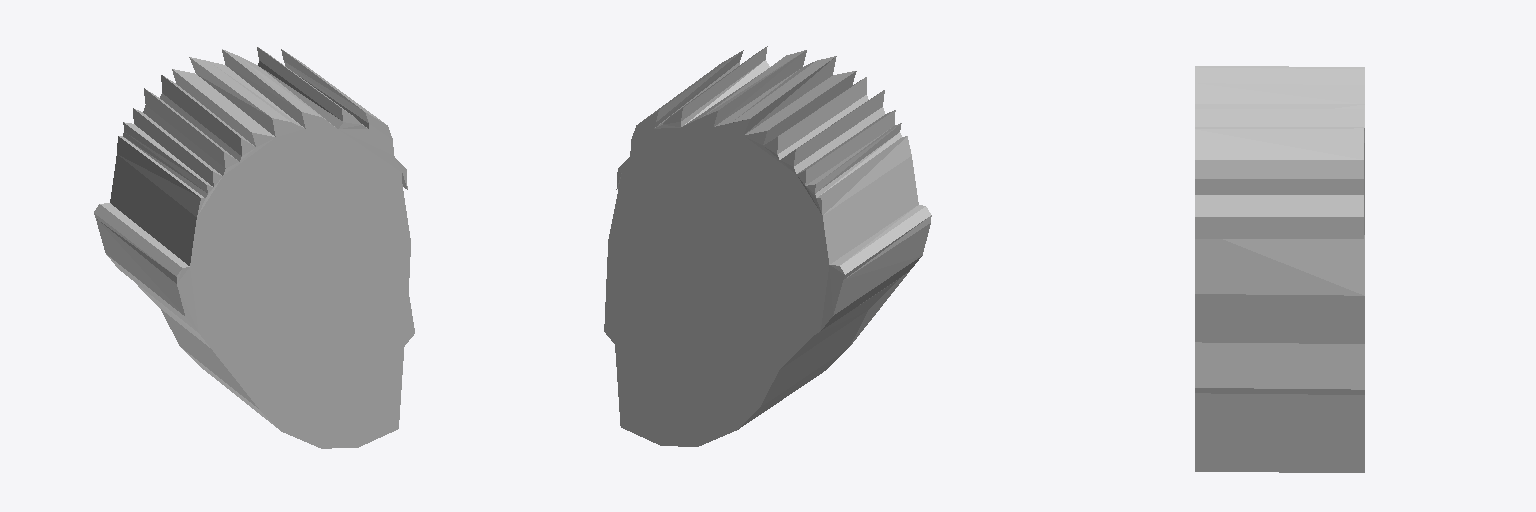
Rendered from trimmedHairHead.obj.
3 views of the same model, side by side, from view 1: azimuth 30°, elevation 25°; view 2: azimuth 150°, elevation 25°; view 3: azimuth 270°, elevation 25° (orthographic).
Visible parts, largest first — view 1: Cube.001_Cube.004; view 2: Cube.001_Cube.004; view 3: Cube.001_Cube.004.
Part boxes in pixels (x1,y1,x2,y2): Cube.001_Cube.004: (94,47,414,448); Cube.001_Cube.004: (604,46,931,446); Cube.001_Cube.004: (1195,66,1364,472).
Bounding box in the file's own units: 0.4484 × 0.6182 × 0.2723.